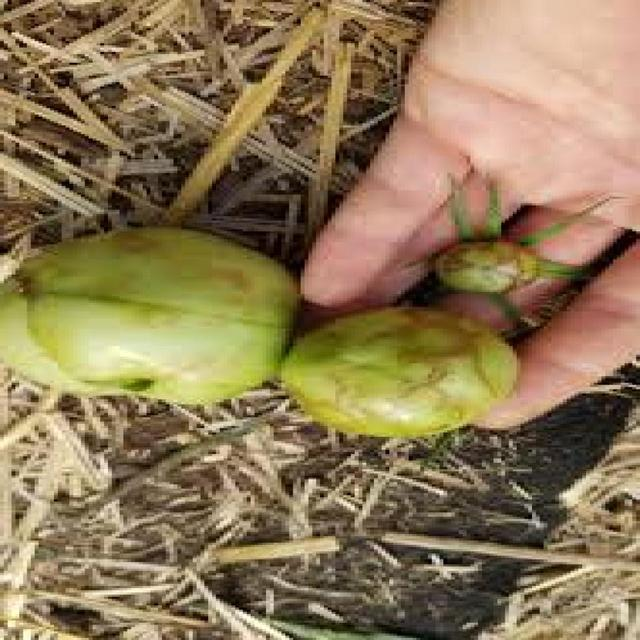Spotted wilt Virus Fruit: (76, 42, 328, 249)
